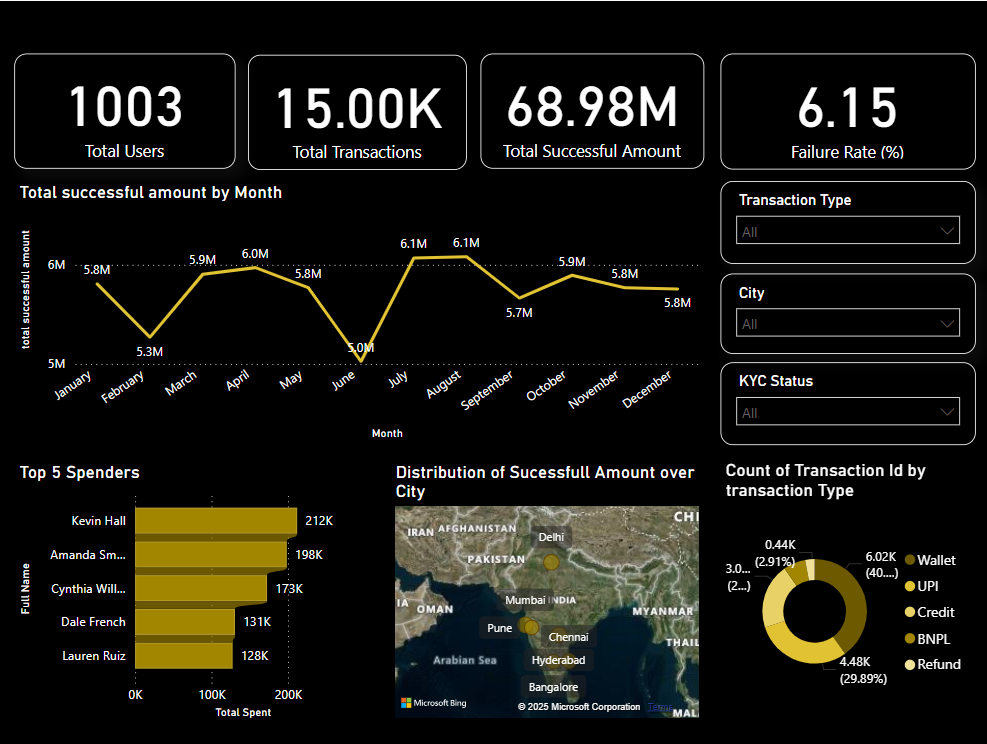

This screenshot's page, from the dashboard's own definition file:
{"tool":"powerbi","page":{"name":"Page 1","canvas":[960,720],"ordinal":0},"visuals":[{"type":"card","fields":{"Values":["fintech users.user_id"]},"box":[15.7,50.7,213.5,111],"z":0},{"type":"card","fields":{"Values":["fintech transactions.txn_id"]},"box":[241.3,51.9,211.1,111],"z":1000},{"type":"card","fields":{"Values":["fintech transactions.total successful amount"]},"box":[465.7,50.7,216,111],"z":2000},{"type":"card","fields":{"Values":["fintech transactions.Failure Rate (%)"]},"box":[697.3,50.7,246.1,112.2],"z":3000},{"type":"barChart","title":"Top 5 Spenders","fields":{"Y":["fintech transactions.Total Spent"],"Category":["fintech users.full_name"]},"box":[15.7,444,345,253.4],"z":4000},{"type":"lineChart","title":"Total successful amount by Month","fields":{"Category":["fintech transactions.txn_time.Variation.Date Hierarchy.Month"],"Y":["fintech transactions.total successful amount"]},"box":[15.7,173.7,666,254.6],"z":5000},{"type":"map","title":"Distribution of Sucessfull Amount over City","fields":{"Category":["fintech users.city"],"Size":["fintech transactions.total successful amount"]},"box":[378.8,444,302.8,253.4],"z":6000},{"type":"donutChart","title":"Count of Transaction Id by transaction Type","fields":{"Category":["fintech transactions.txn_type"],"Y":["fintech transactions.txn_id"]},"box":[697.3,442.8,246.1,254.6],"z":6001},{"type":"slicer","fields":{"Values":["fintech transactions.txn_type"]},"box":[697.3,173.7,246.1,79.6],"z":6002},{"type":"slicer","fields":{"Values":["fintech users.city"]},"box":[697.3,263,246.1,77.2],"z":6003},{"type":"slicer","fields":{"Values":["fintech users.kyc_status"]},"box":[697.3,348.7,246.1,79.6],"z":6004}]}

Visuals, with their boxes in screenshot pixels (x1, y1, x2, y2), scaled from the page's 960x720 canvas onto the 987x744 screenshot:
card - fintech users.user_id: [16,52,236,167]
card - fintech transactions.txn_id: [248,54,465,168]
card - fintech transactions.total successful amount: [479,52,701,167]
card - fintech transactions.Failure Rate (%): [717,52,970,168]
"Top 5 Spenders" barChart: [16,459,371,721]
"Total successful amount by Month" lineChart: [16,179,701,443]
"Distribution of Sucessfull Amount over City" map: [389,459,701,721]
"Count of Transaction Id by transaction Type" donutChart: [717,458,970,721]
slicer - fintech transactions.txn_type: [717,179,970,262]
slicer - fintech users.city: [717,272,970,352]
slicer - fintech users.kyc_status: [717,360,970,443]
